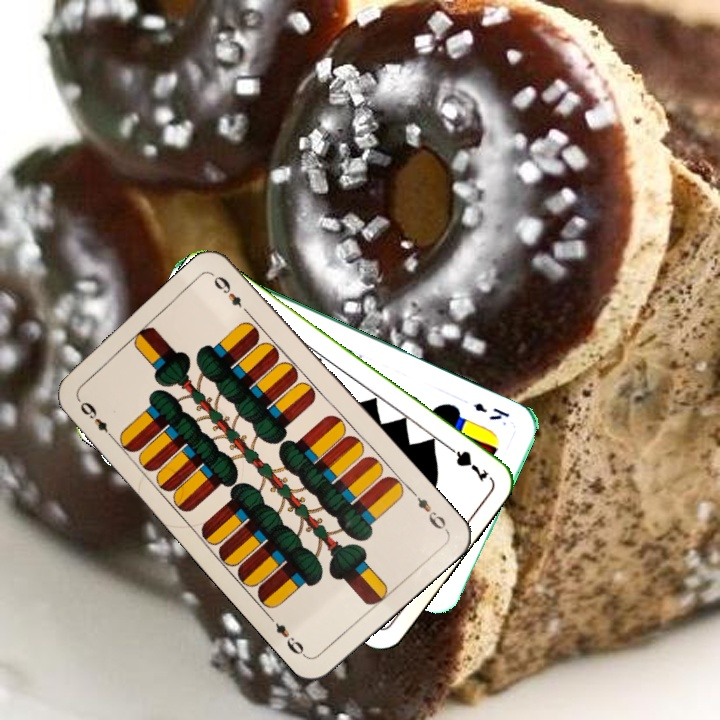E9: (406, 485, 450, 534), (73, 394, 117, 442)
EK: (470, 398, 512, 423)
G7: (440, 439, 492, 485)
